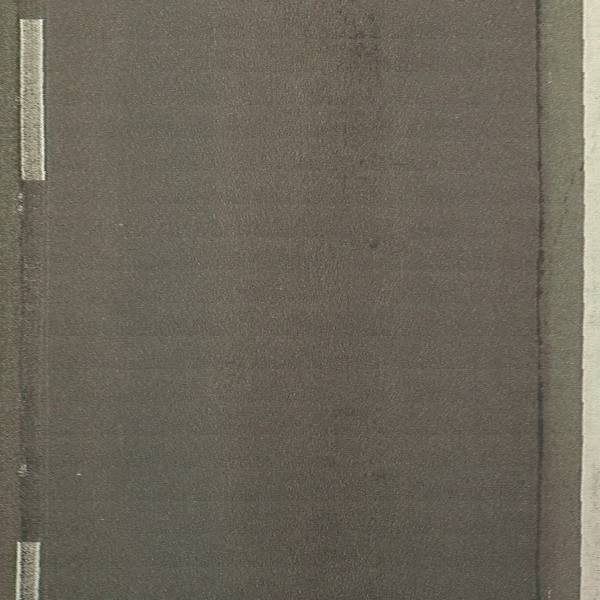road_damage: (328, 1, 392, 136)
